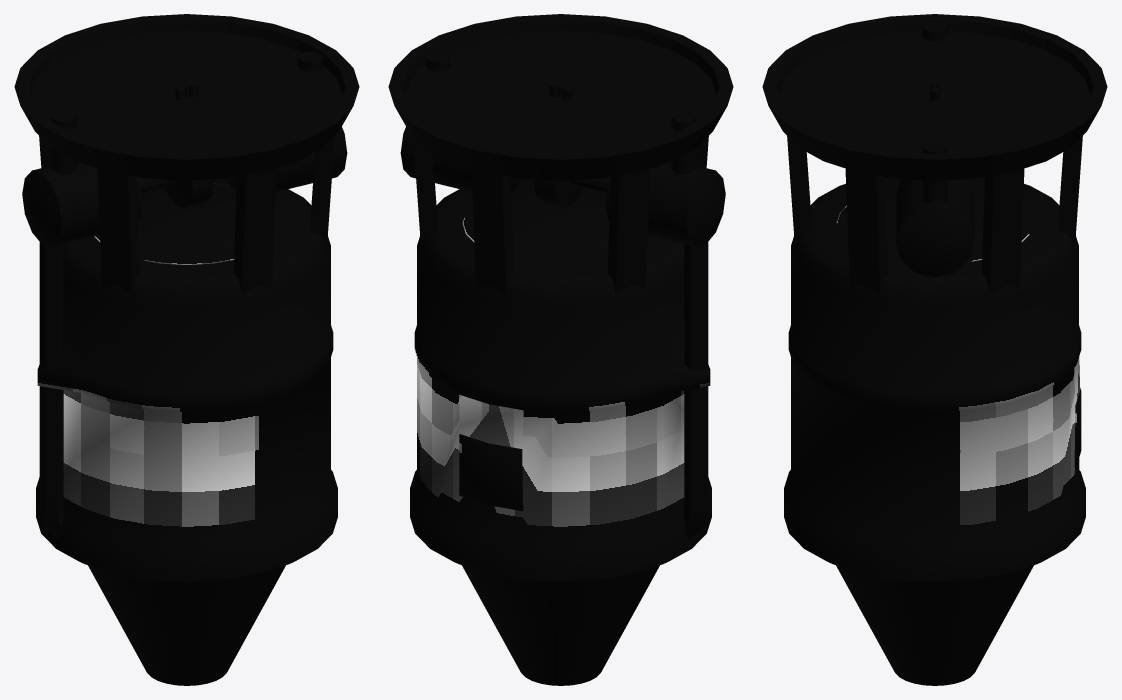
The model's file is Aerospike.FBX.
3 renders of one model, left to right at view 1: azimuth 30°, elevation 25°; view 2: azimuth 150°, elevation 25°; view 3: azimuth 270°, elevation 25°, orthographic.
Parts seen in each view (by area): view 1: Main Body, Cylinder001, Cylinder029, OilTank002, Box010, Box011, Box009, OilTank004, OilTank003, Cylinder031; view 2: Main Body (×2), Cylinder001, Cylinder029, OilTank002, Box012, Box007, Box008, OilTank004, OilTank003, Cylinder031; view 3: Main Body, Cylinder001, OilTank004, Box008, Box009, Box010, Box007, Cylinder030.
Boxes of the visible parts, left/top/right/bottom form: Main Body: left=36, top=178, right=337, bottom=685; Cylinder001: left=14, top=14, right=359, bottom=180; Cylinder029: left=39, top=242, right=63, bottom=539; OilTank002: left=22, top=162, right=142, bottom=246; Box010: left=233, top=168, right=276, bottom=294; Box011: left=97, top=168, right=140, bottom=294; Box009: left=310, top=136, right=334, bottom=246; OilTank004: left=227, top=127, right=347, bottom=193; OilTank003: left=137, top=177, right=213, bottom=207; Cylinder031: left=51, top=112, right=76, bottom=175; Main Body (×2): left=410, top=178, right=711, bottom=685; Cylinder001: left=388, top=14, right=733, bottom=180; Cylinder029: left=684, top=242, right=708, bottom=539; OilTank002: left=605, top=162, right=725, bottom=246; Box012: left=607, top=168, right=650, bottom=294; Box007: left=471, top=168, right=514, bottom=294; Box008: left=413, top=136, right=437, bottom=246; OilTank004: left=400, top=127, right=520, bottom=193; OilTank003: left=534, top=177, right=610, bottom=207; Cylinder031: left=671, top=112, right=696, bottom=175; Main Body: left=784, top=177, right=1085, bottom=685; Cylinder001: left=762, top=14, right=1107, bottom=180; OilTank004: left=895, top=179, right=974, bottom=277; Box008: left=981, top=168, right=1024, bottom=294; Box009: left=845, top=168, right=888, bottom=294; Box010: left=787, top=136, right=811, bottom=246; Box007: left=1058, top=136, right=1082, bottom=246; Cylinder030: left=922, top=142, right=947, bottom=203.
Size of what is drawn, in the model's own units: 1.27 by 2.33 by 1.25.
